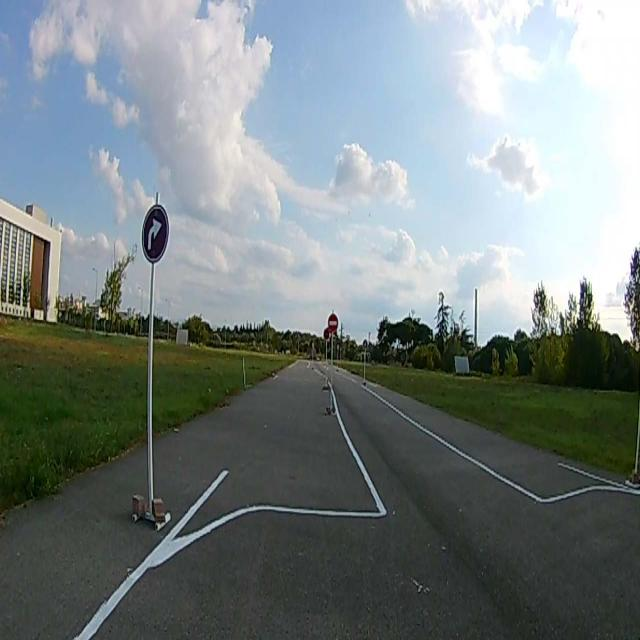girisyok: (326, 312, 339, 332)
sag: (144, 202, 167, 261)
